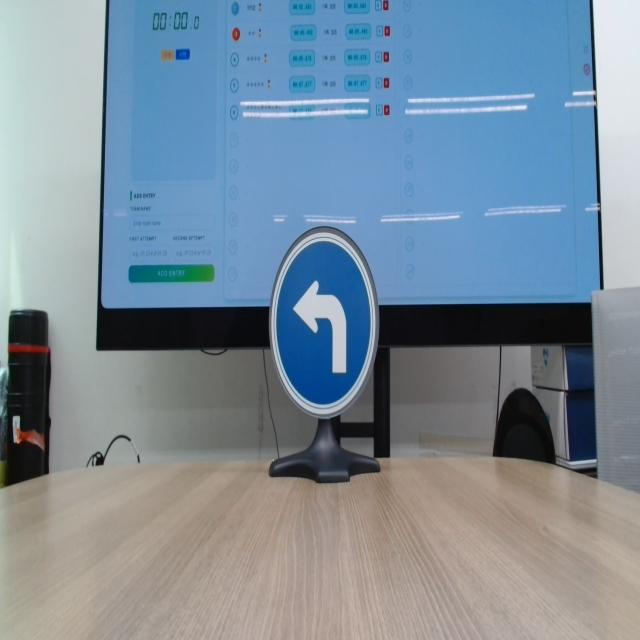left_direction: (269, 214, 384, 426)
